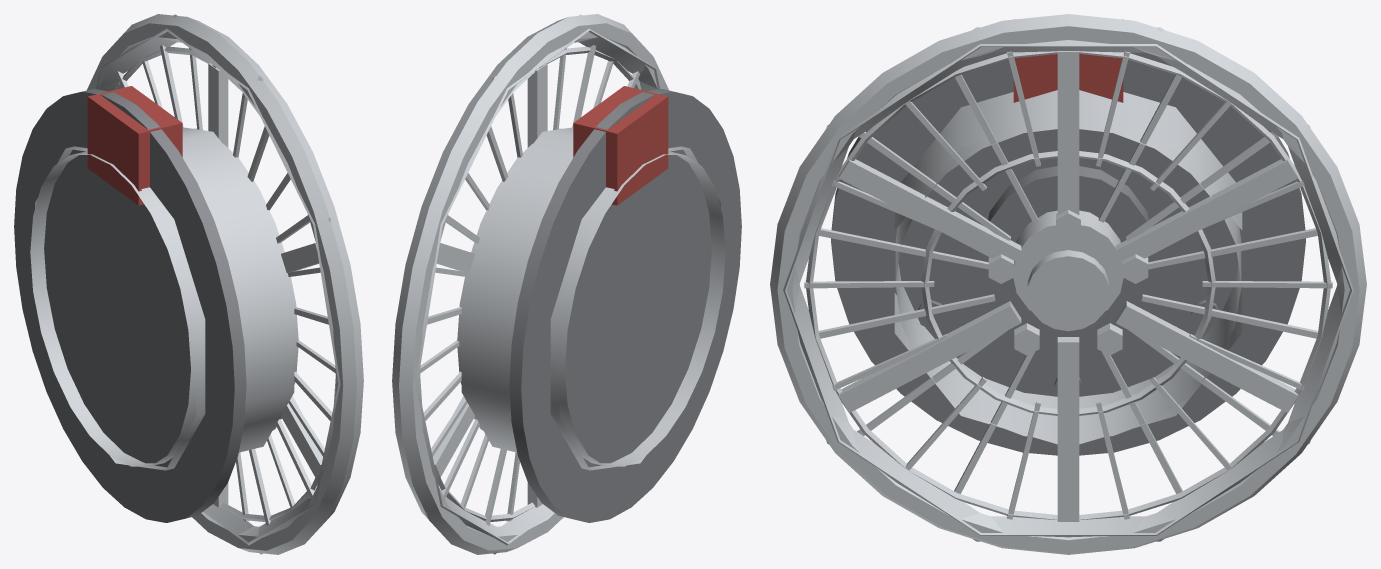
Rendered from wh-aero.glb.
The picture shows the model from 3 angles, left to right: view 1: azimuth 30°, elevation 25°; view 2: azimuth 150°, elevation 25°; view 3: azimuth 270°, elevation 25°; orthographic projection. The views are drawn at different scales.
Visible parts, largest first — view 1: Rotor, Chrome, ChromeLOD, Caliper; view 2: Rotor, Chrome, ChromeLOD, Caliper; view 3: Chrome, Rotor, ChromeLOD, Caliper.
Boxes of the visible parts, bbox=[...] form: Rotor: bbox=[14, 89, 246, 522]; Chrome: bbox=[30, 14, 363, 554]; ChromeLOD: bbox=[35, 14, 340, 554]; Caliper: bbox=[87, 86, 182, 205]; Rotor: bbox=[509, 89, 741, 522]; Chrome: bbox=[392, 14, 725, 554]; ChromeLOD: bbox=[415, 14, 720, 554]; Caliper: bbox=[573, 86, 668, 205]; Chrome: bbox=[770, 14, 1366, 554]; Rotor: bbox=[831, 52, 1305, 455]; ChromeLOD: bbox=[783, 27, 1353, 541]; Caliper: bbox=[1013, 19, 1123, 102].
Size of the model in its own units: 0.1278 by 0.49 by 0.49.
